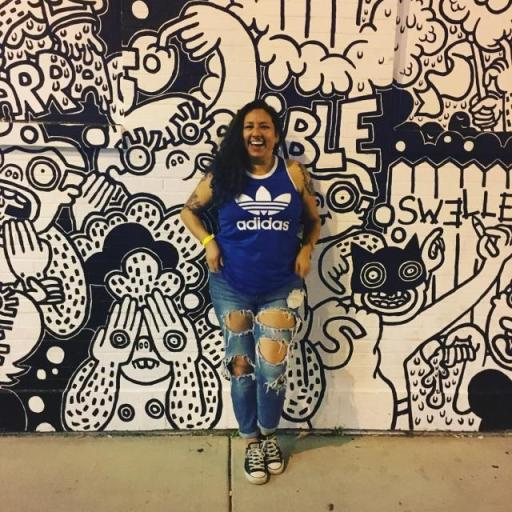Adidas: (232, 186, 294, 232)
